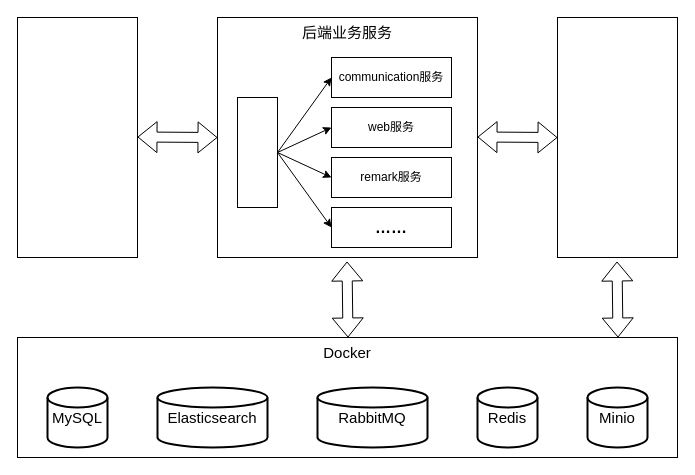
Some shapes in this 695 by 475 pixel diagram are drawn without their labels. The box of each missing label's shape, as (x1, y1, x2, y2) in pixels:
前端网页: (16, 16, 138, 258)
用户画像引擎: (556, 16, 678, 258)
网 关 层: (236, 96, 278, 208)
